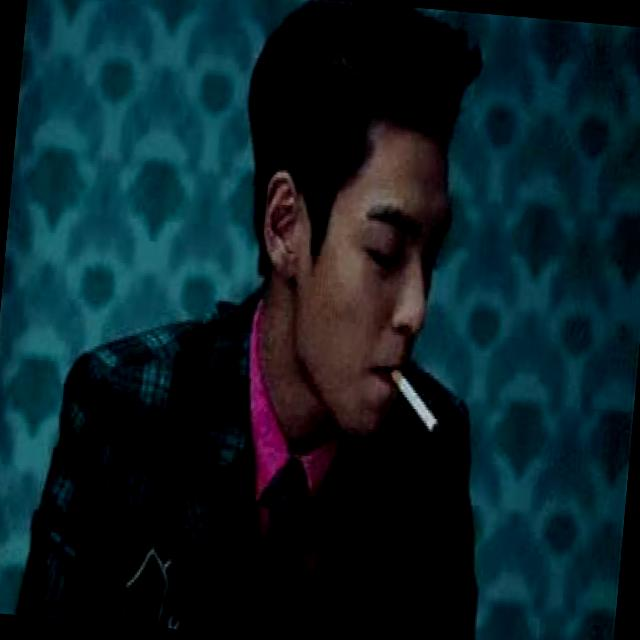cigarette: (352, 340, 456, 454)
